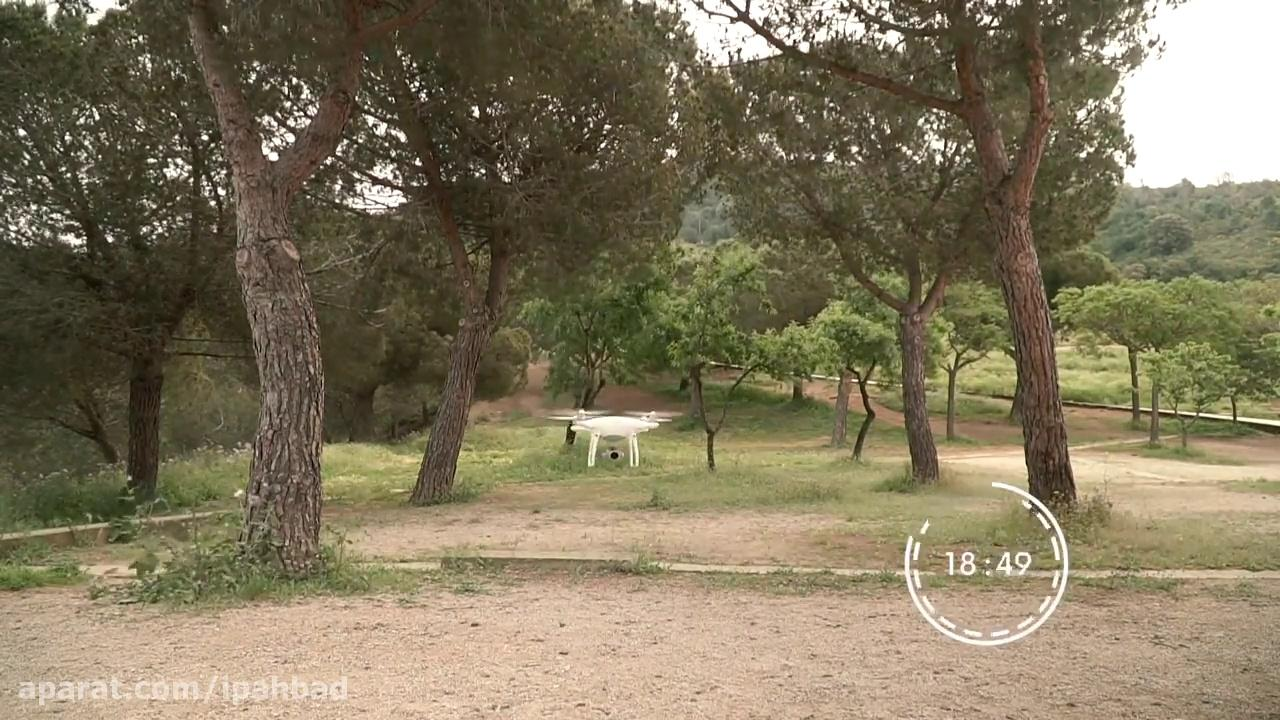drone: (540, 402, 688, 473)
